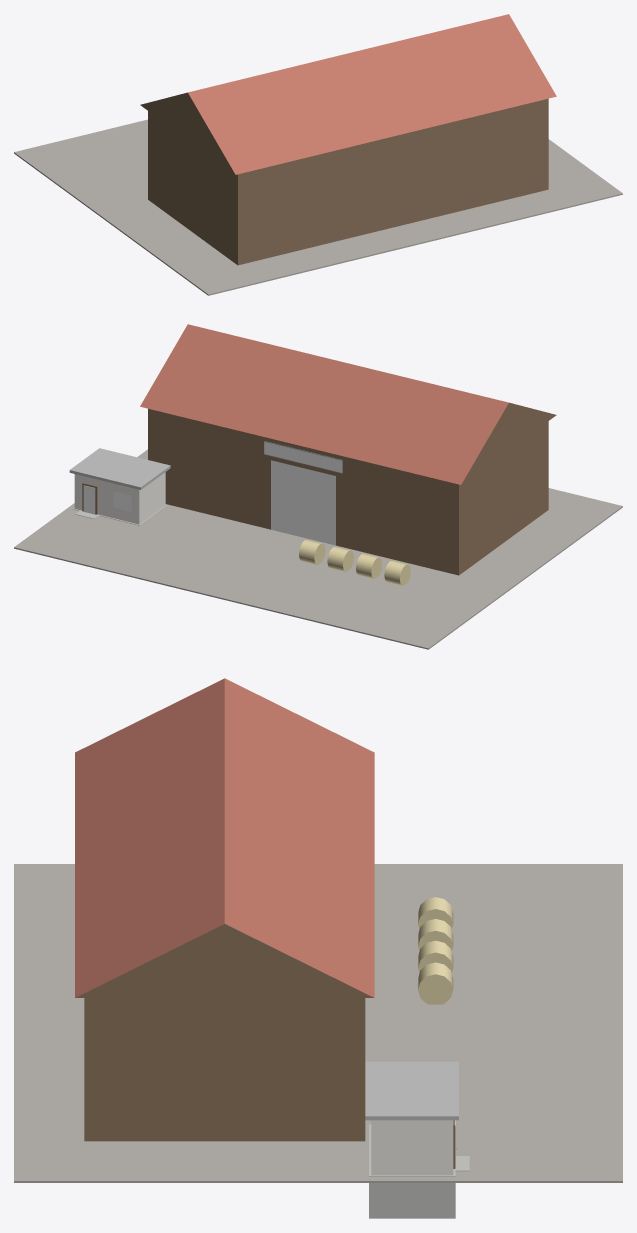
The model's file is barn.glb.
3 views of the same model, one above another, from view 1: azimuth 30°, elevation 25°; view 2: azimuth 150°, elevation 25°; view 3: azimuth 270°, elevation 25° (orthographic). The views are drawn at different scales.
Parts seen in each view (by area): view 1: barn; view 2: barn; view 3: barn.
Part boxes in pixels (x1,y1,x2,y2): barn: [14, 14, 622, 295]; barn: [14, 324, 622, 649]; barn: [14, 678, 622, 1218].
Size of what is drawn, in the model's own units: 32 by 12.4 by 26.
